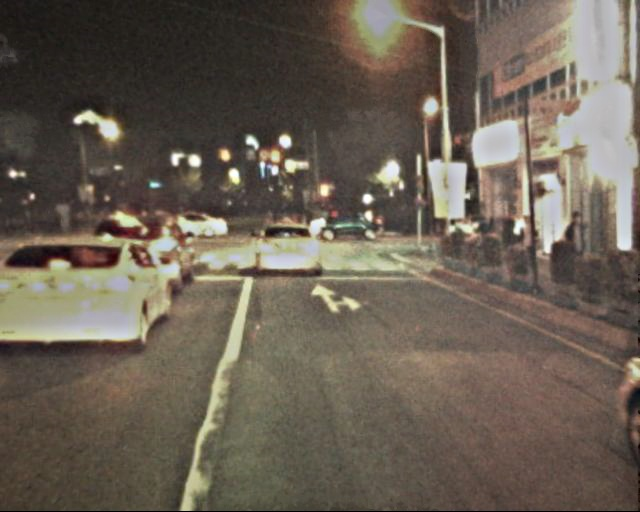person: (37, 204, 103, 234), (566, 211, 589, 280), (518, 214, 542, 272), (265, 207, 309, 230)
